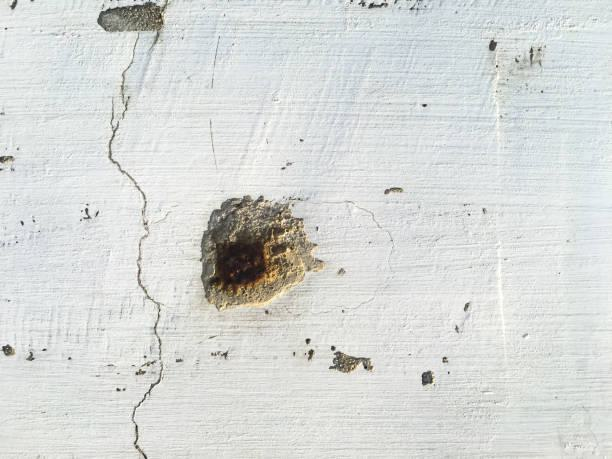Corrosion: (209, 239, 266, 296)
Crack: (107, 32, 165, 459), (290, 198, 395, 272), (284, 284, 385, 317)
Spalling: (200, 194, 325, 312), (96, 1, 165, 32), (114, 353, 158, 393), (327, 344, 374, 374), (291, 338, 314, 361), (77, 203, 100, 223), (209, 346, 231, 362), (349, 1, 388, 10), (1, 155, 15, 172), (420, 370, 434, 386), (383, 186, 403, 197), (1, 344, 17, 356), (441, 356, 451, 375), (20, 218, 36, 227), (488, 39, 497, 52), (26, 351, 36, 362), (462, 301, 470, 314), (454, 324, 460, 335)
